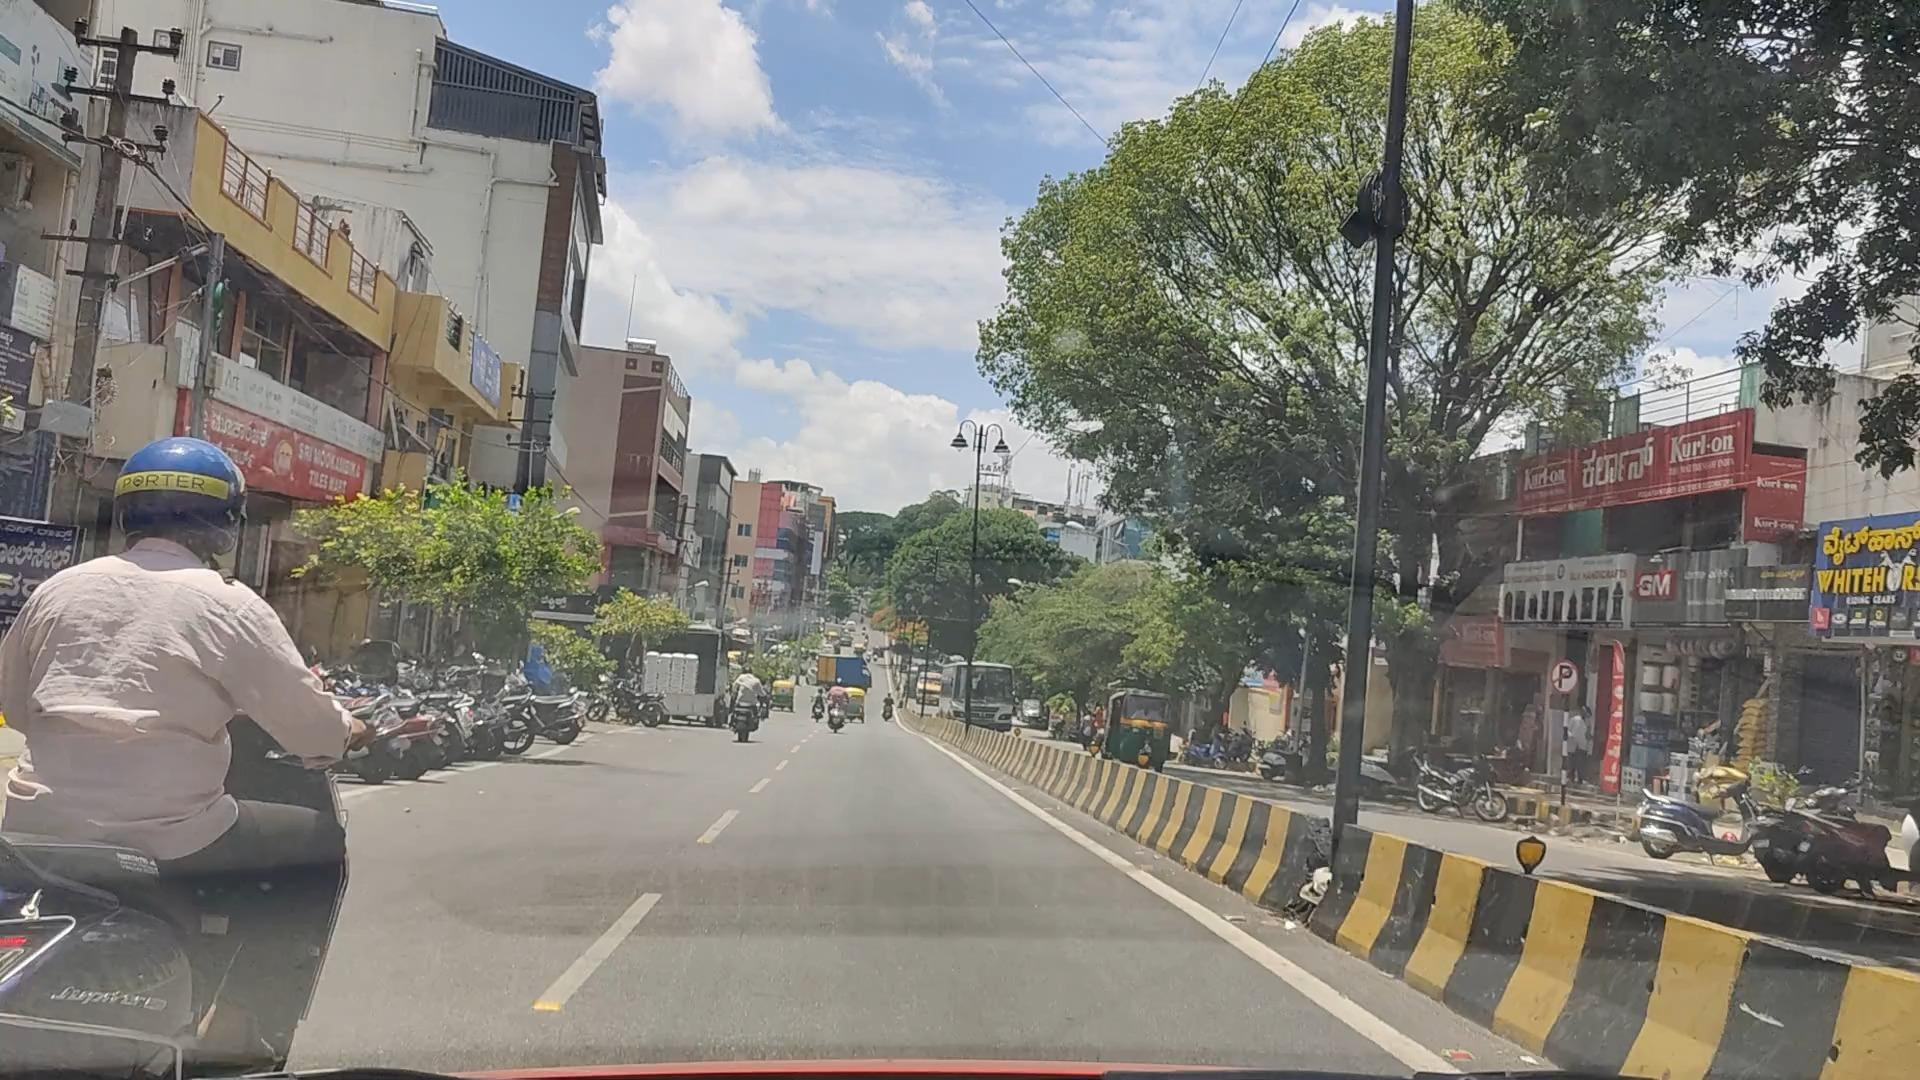LMV: (5, 430, 373, 1080)
